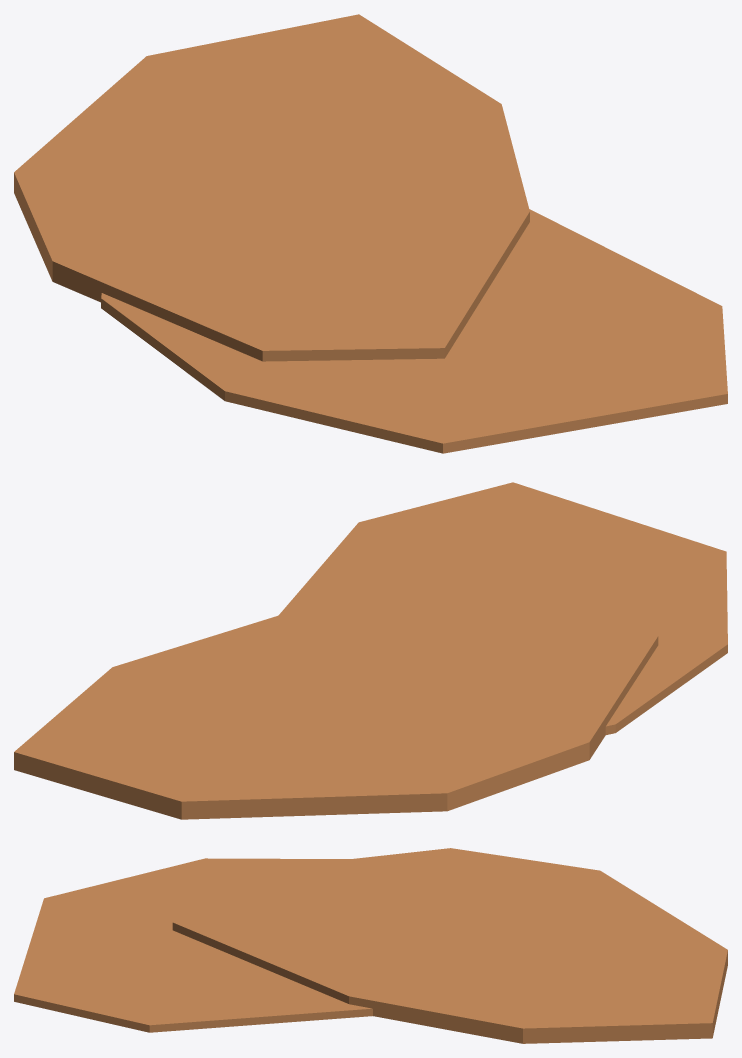
File: SandRocks8_LOD1.fbx
3 renders of one model, top to bottom at view 1: azimuth 30°, elevation 25°; view 2: azimuth 150°, elevation 25°; view 3: azimuth 270°, elevation 25°, orthographic. The views are drawn at different scales.
Visible parts, largest first — view 1: Plane.188; view 2: Plane.188; view 3: Plane.188.
Boxes of the visible parts, x1,y1,x2,y2 form: Plane.188: [14, 14, 727, 453]; Plane.188: [14, 482, 727, 819]; Plane.188: [14, 848, 727, 1043].
Size of the model in its own units: 182 by 7.21 by 304.
